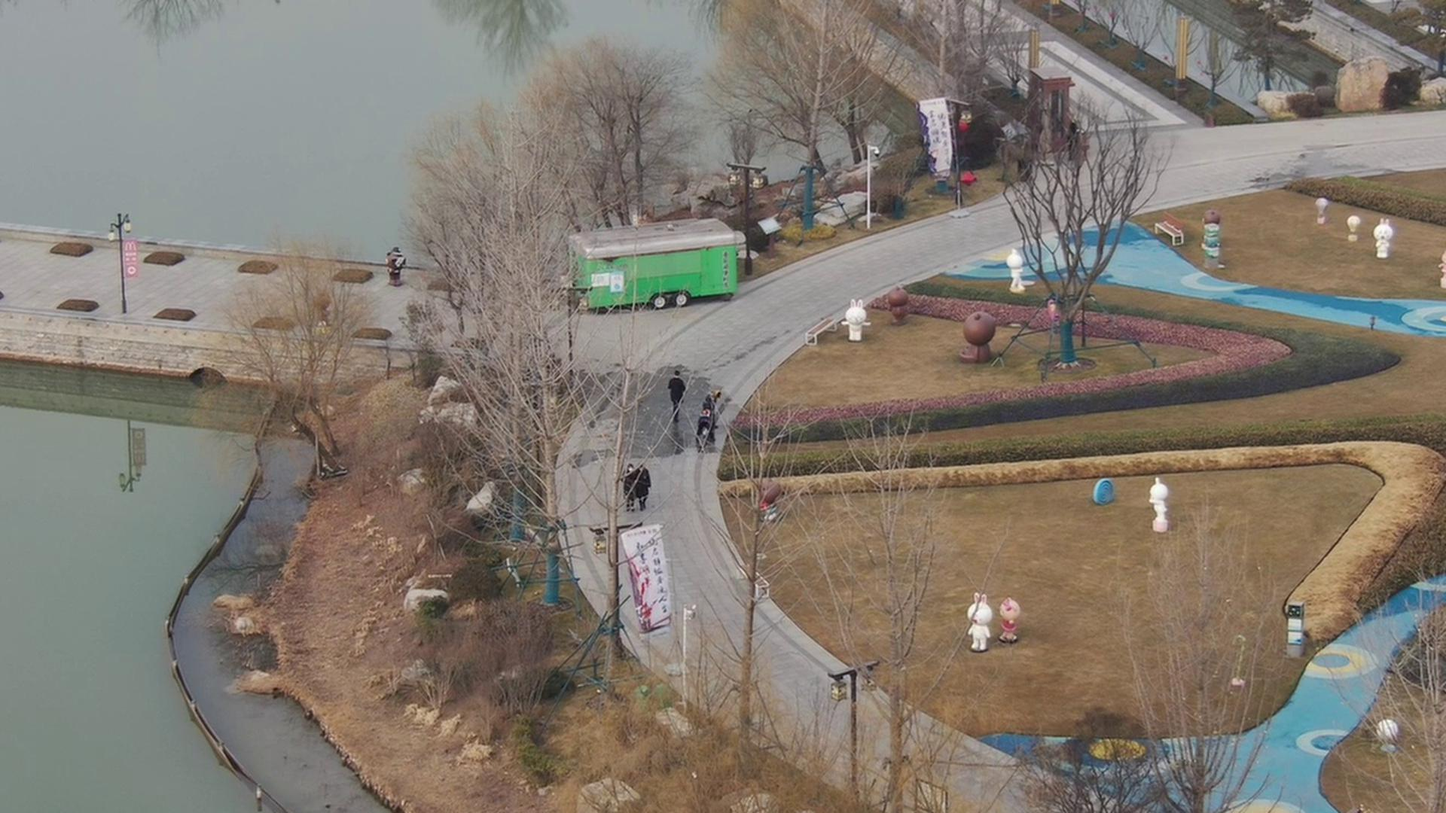class_2: (617, 455, 654, 520), (691, 385, 722, 460)
human: (663, 359, 691, 431)
